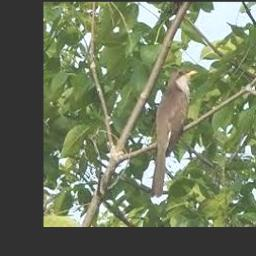Cuckoo: (151, 69, 198, 196)
